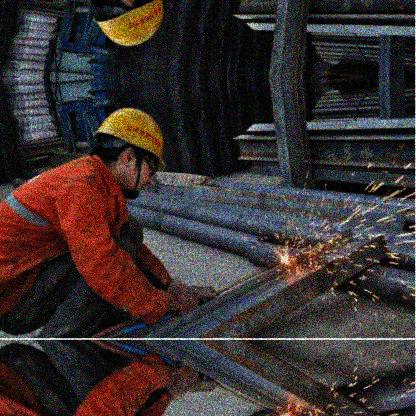helmet: (91, 108, 167, 202)
